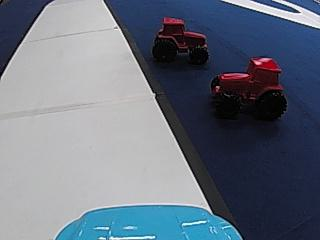Tracktor: (206, 54, 290, 120), (151, 15, 208, 63)
